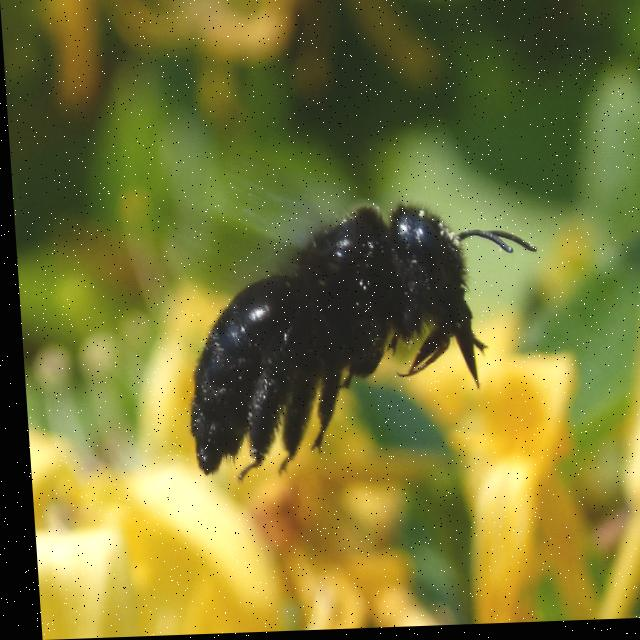Xylocopa: (140, 173, 561, 506)
